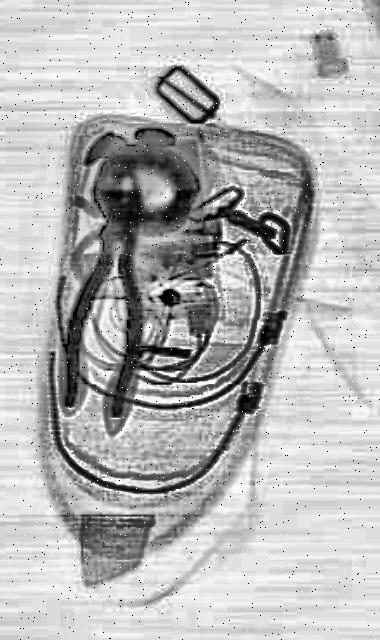Pliers: (56, 173, 170, 433)
